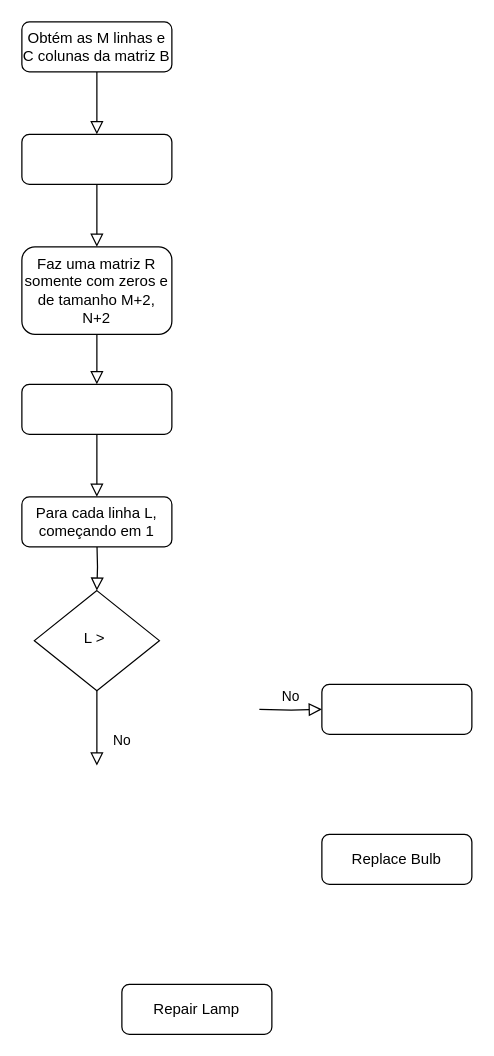
This 494x1056 diagram has some shape labels left out. Each missing label, with the centre of its shape:
Faz rotulo_atual = 1: the point at 96,408
Faz uma borda de zeros na matriz B: the point at 96,158
Plug in lamp: the point at 396,708
